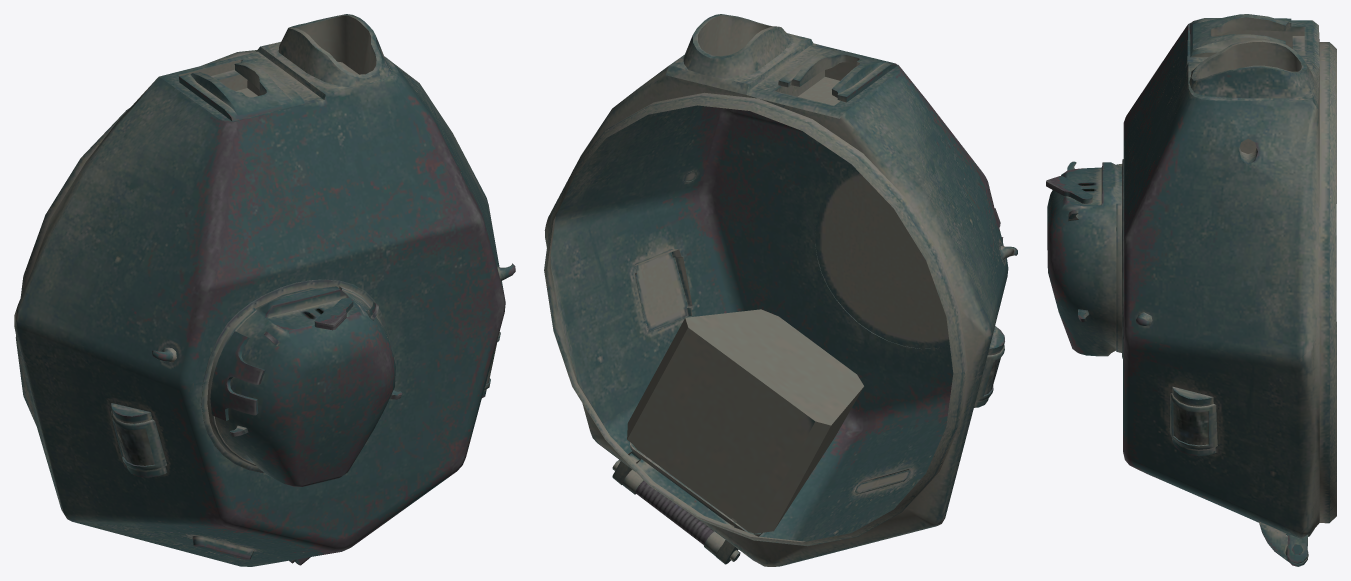
Rendered from Turret_01.glb.
3 renders of one model, left to right at view 1: azimuth 30°, elevation 25°; view 2: azimuth 150°, elevation 25°; view 3: azimuth 270°, elevation 25°, orthographic. The views are drawn at different scales.
Parts seen in each view (by area): view 1: set_0_group_0; view 2: set_0_group_0; view 3: set_0_group_0.
Boxes of the visible parts, bbox=[...] form: set_0_group_0: bbox=[14, 14, 515, 566]; set_0_group_0: bbox=[544, 14, 1017, 566]; set_0_group_0: bbox=[1046, 14, 1336, 566].
Size of the model in its own units: 1.41 by 1.58 by 0.7996.
Materials: 1 (1 with a texture image).
